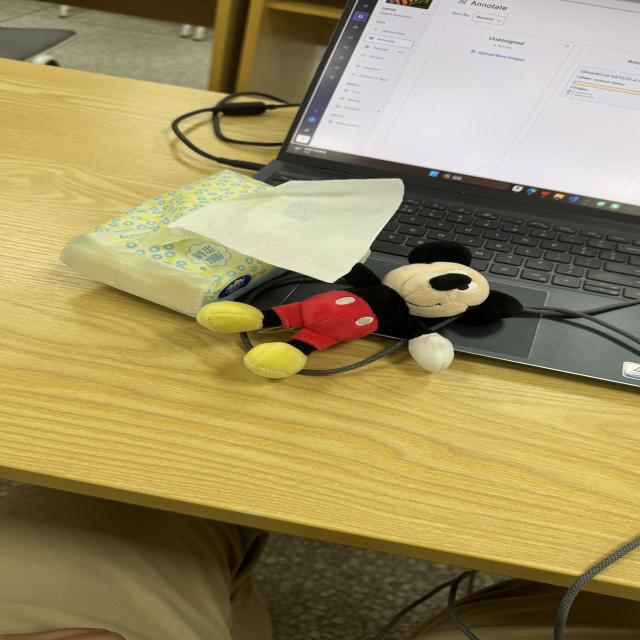mickey: (197, 242, 522, 378)
tissue: (61, 170, 284, 315), (167, 179, 403, 282)
